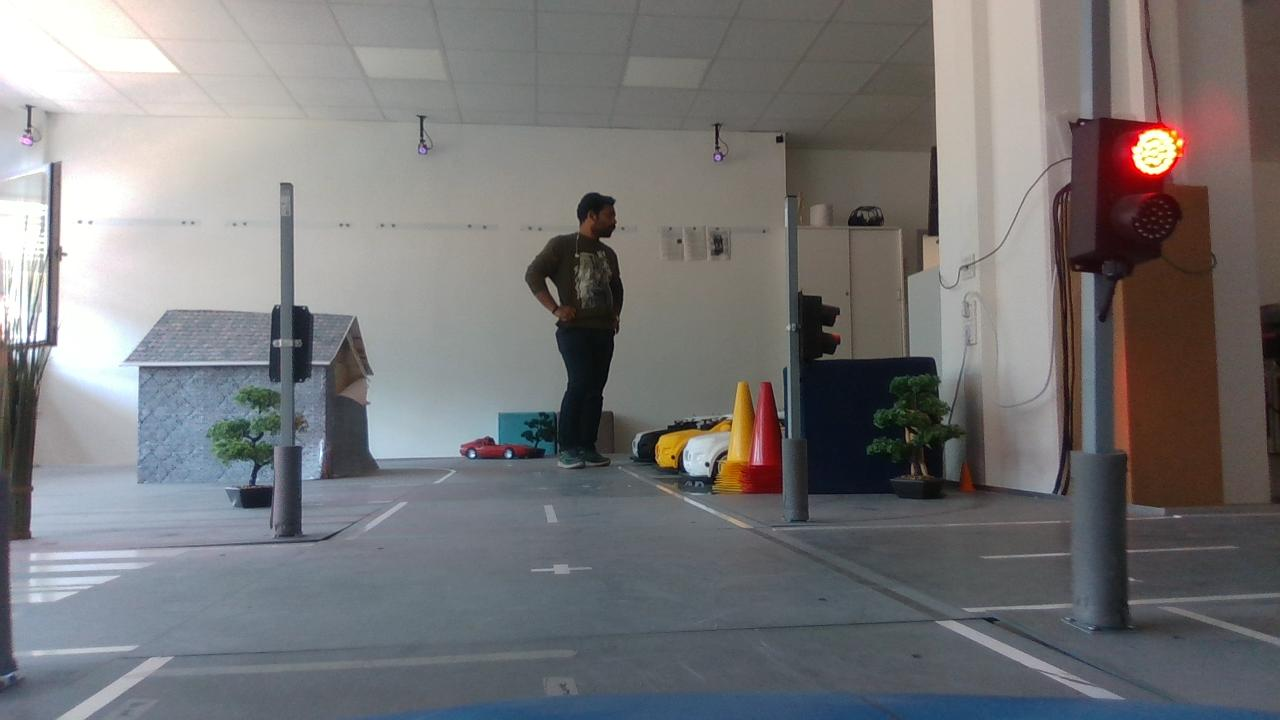traffic_light_red: (1057, 100, 1198, 285)
